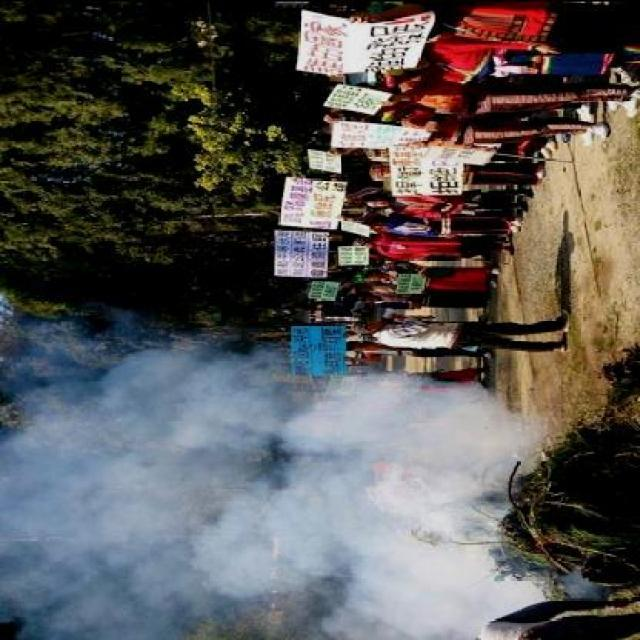Smoke: (0, 294, 557, 640)
